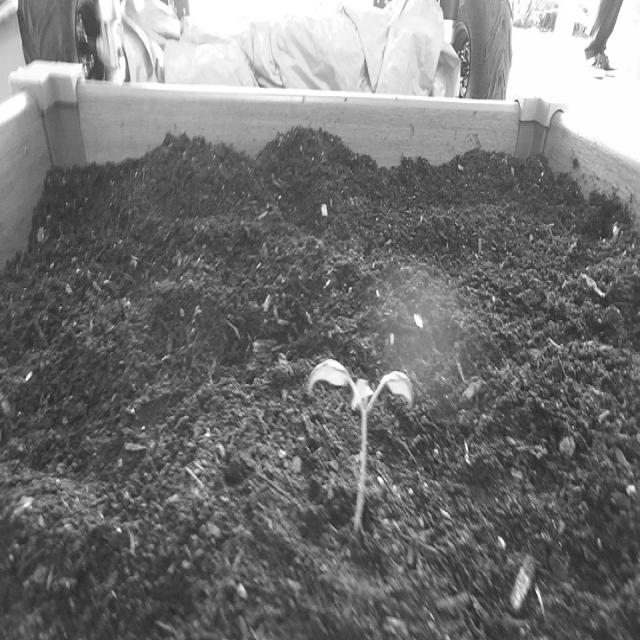Healthy: (301, 338, 423, 550)
